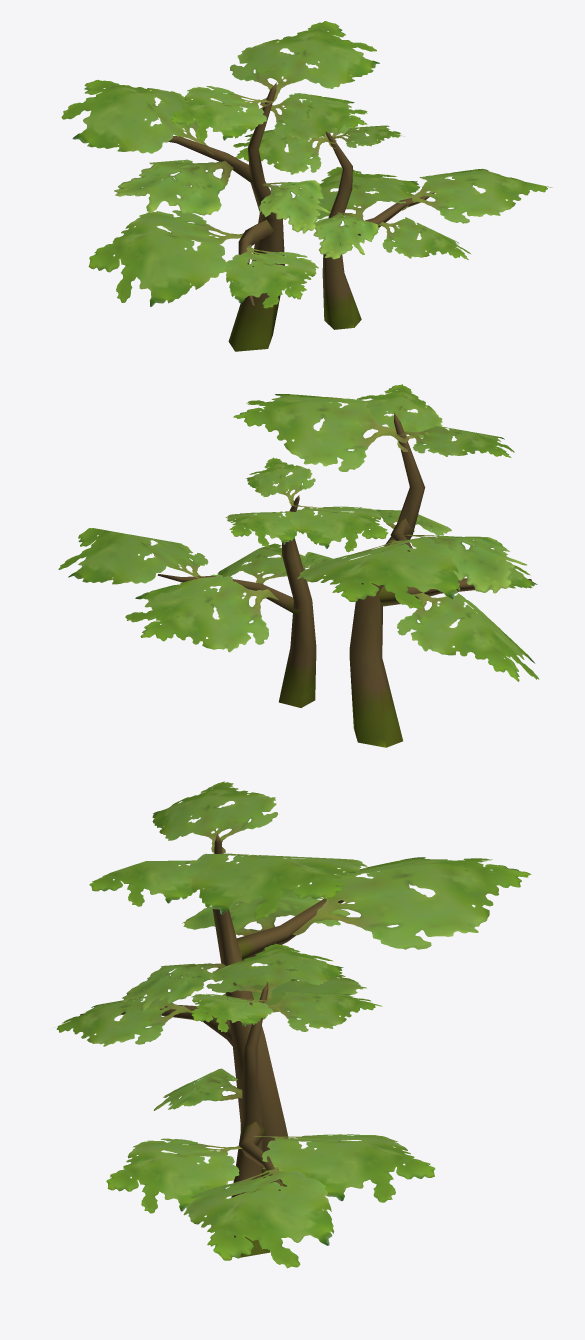
File: liemo_plant_07 (6) #65350010.fbx
3 renders of one model, top to bottom at view 1: azimuth 30°, elevation 25°; view 2: azimuth 150°, elevation 25°; view 3: azimuth 270°, elevation 25°, orthographic. The views are drawn at different scales.
Visible parts, largest first — view 1: liemo_plant_07 (6); view 2: liemo_plant_07 (6); view 3: liemo_plant_07 (6).
Part boxes in pixels (bbox=[...]): liemo_plant_07 (6): bbox=[61, 21, 552, 351]; liemo_plant_07 (6): bbox=[58, 384, 539, 747]; liemo_plant_07 (6): bbox=[56, 781, 531, 1268].
Size of the model in its own units: 1.74 by 0.956 by 1.24.
